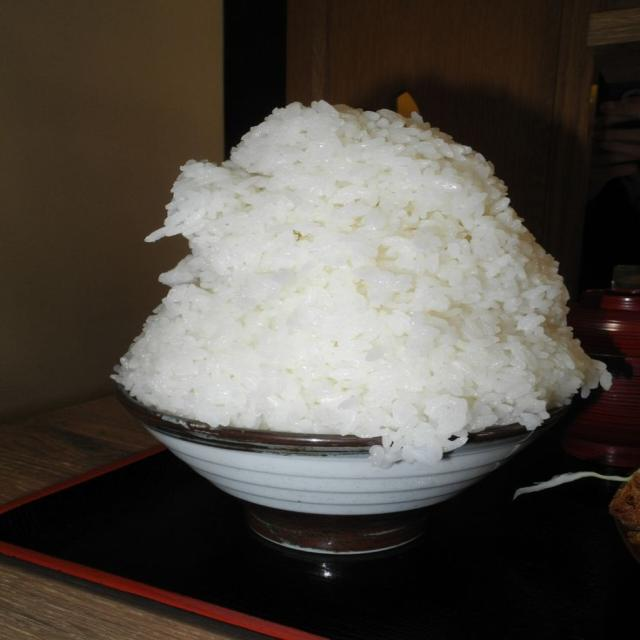rice: (114, 102, 609, 465)
